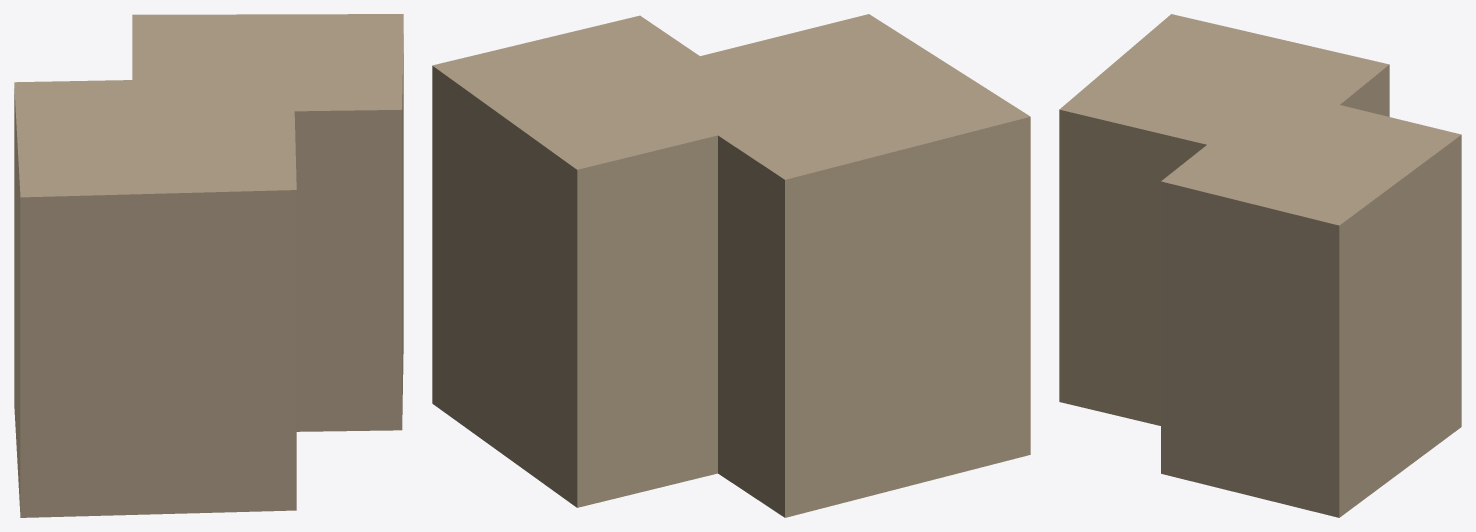
File: bld_99549165.dae
3 views of the same model, side by side, from view 1: azimuth 30°, elevation 25°; view 2: azimuth 150°, elevation 25°; view 3: azimuth 270°, elevation 25° (orthographic). The views are drawn at different scales.
Visible parts, largest first — view 1: bld_99549165; view 2: bld_99549165; view 3: bld_99549165.
Boxes of the visible parts, x1,y1,x2,y2 form: bld_99549165: [14, 14, 403, 517]; bld_99549165: [432, 14, 1030, 517]; bld_99549165: [1059, 14, 1461, 517].
Bounding box in the file's own units: 12.42 × 9.98 × 8.
